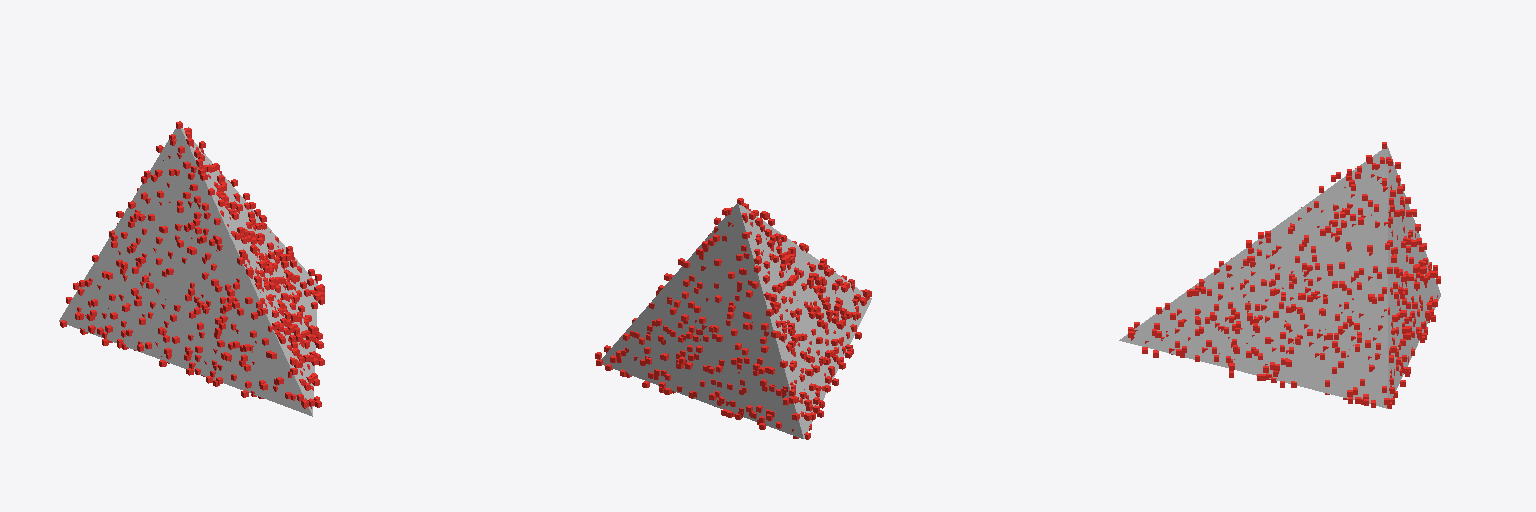
3 renders of one model, left to right at view 1: azimuth 30°, elevation 25°; view 2: azimuth 150°, elevation 25°; view 3: azimuth 270°, elevation 25°, orthographic.
Visible parts, largest first — view 1: out; view 2: out; view 3: out.
Part boxes in pixels (left/top/right/bottom): out: left=59, top=121, right=324, bottom=416; out: left=595, top=198, right=871, bottom=439; out: left=1119, top=142, right=1440, bottom=408.
Size of the model in its own units: 5.07 by 4.14 by 6.